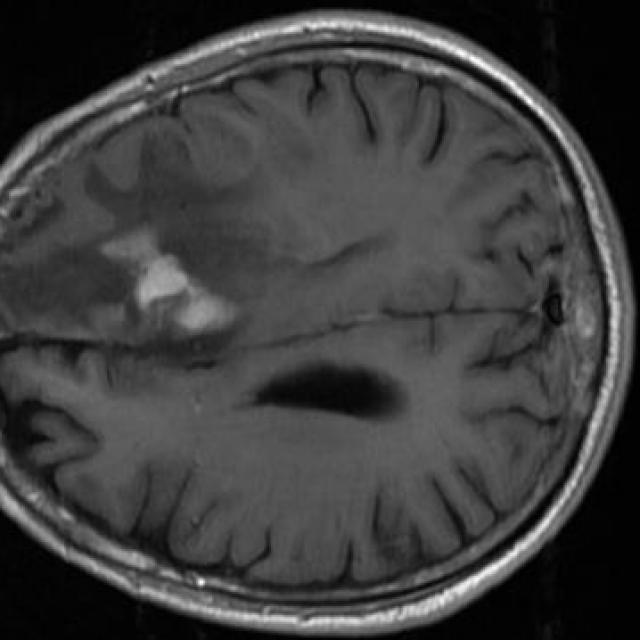glioma: (4, 137, 269, 369)
